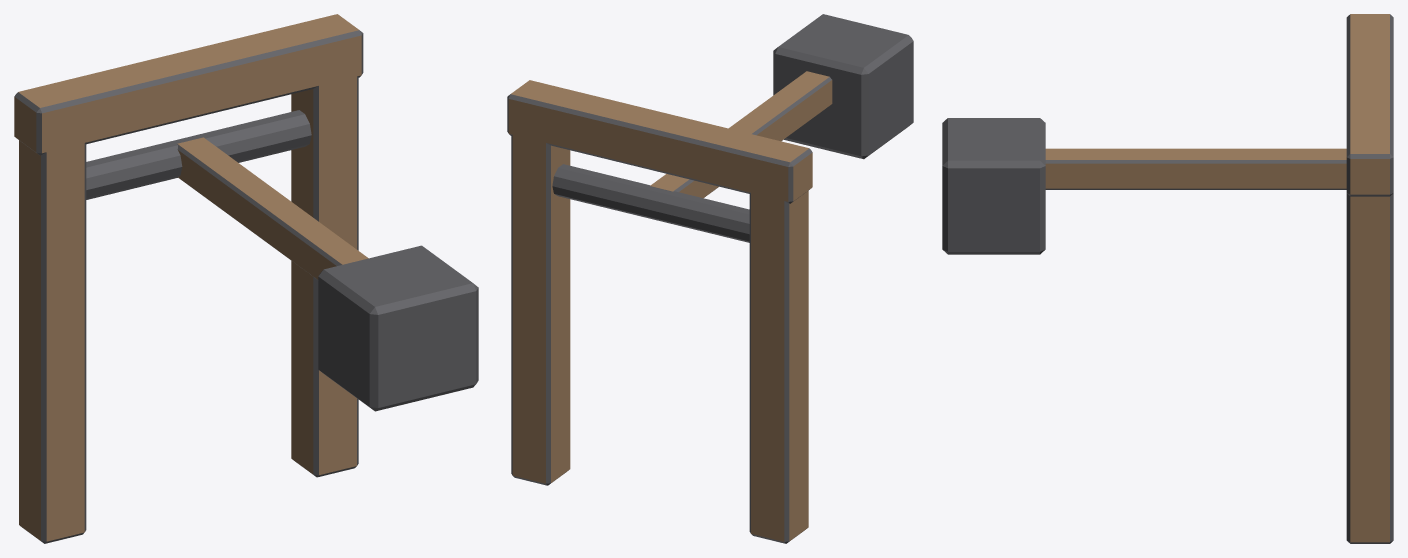
File: Hammer.fbx
3 renders of one model, left to right at view 1: azimuth 30°, elevation 25°; view 2: azimuth 150°, elevation 25°; view 3: azimuth 270°, elevation 25°, orthographic. The views are drawn at different scales.
Visible parts, largest first — view 1: Frame.001, Arm; view 2: Frame.001, Arm; view 3: Arm, Frame.001.
Part boxes in pixels (box(x1,y1,x2,y2)): Frame.001: box(14, 14, 363, 543); Arm: box(177, 137, 478, 411); Frame.001: box(507, 80, 812, 543); Arm: box(650, 14, 913, 198); Arm: box(942, 118, 1346, 254); Frame.001: box(1346, 14, 1393, 543).
Size of the model in its own units: 3.6 by 4.6 by 4.8.
